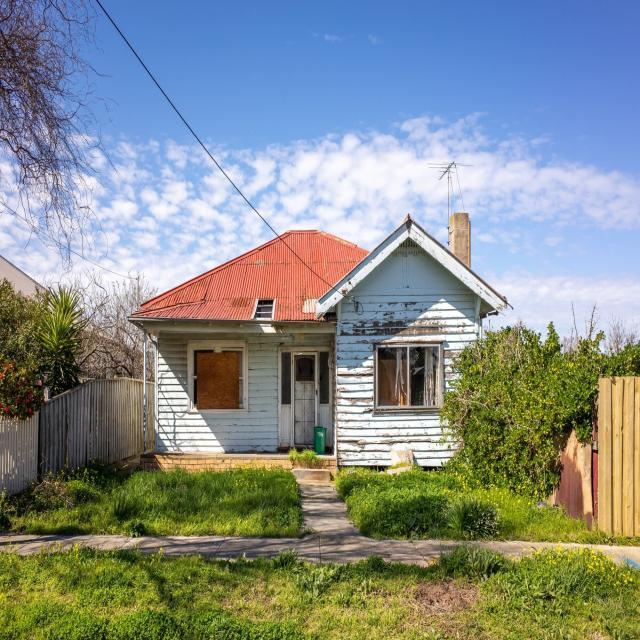House: (126, 209, 513, 473)
